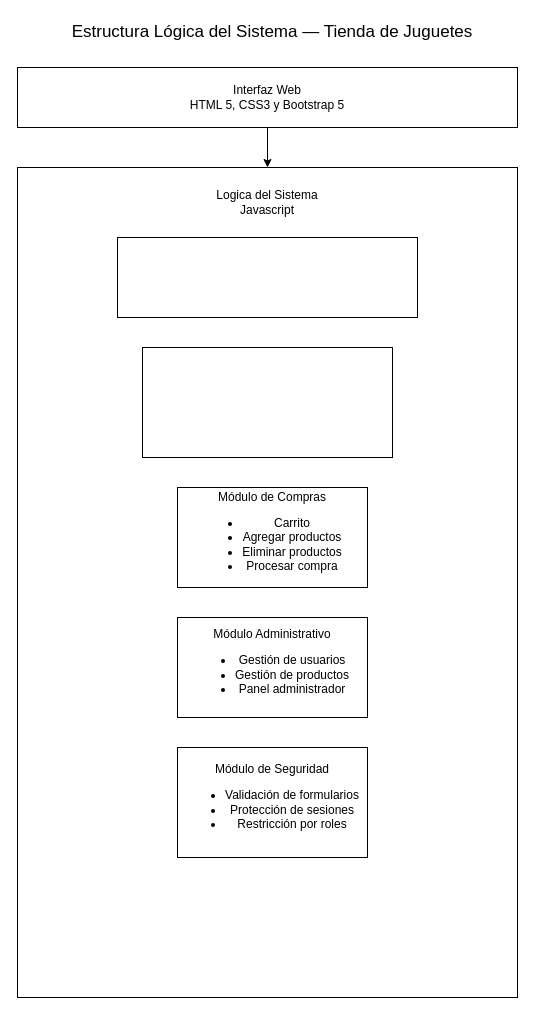
Image size: 535x1015. Some labels were removed from this diagram. The shapes that lost their labels are listed below. From the top down, each one's centre as x and y in pixels, then its label:
the point at 267,277: Módulo de Autenticación • Login • Registro • Validaciones • Control de sesiones
the point at 267,402: Módulo de Productos Catálogo Categorías Buscador CRUD de productos
